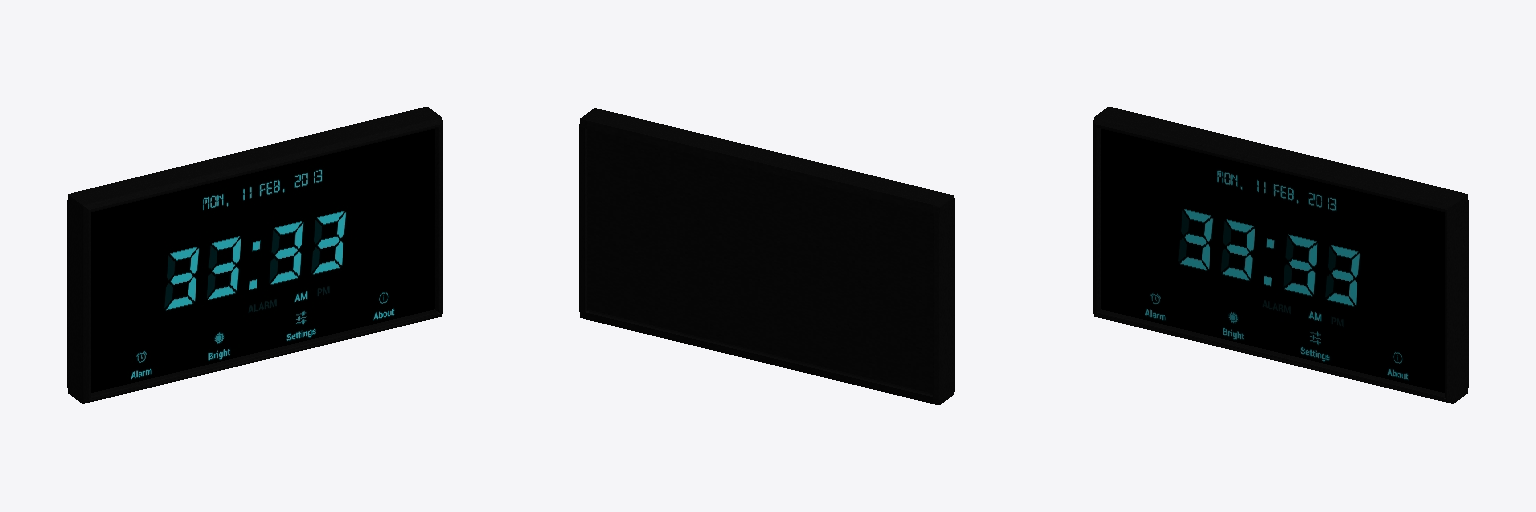
3 views of the same model, side by side, from view 1: azimuth 30°, elevation 25°; view 2: azimuth 150°, elevation 25°; view 3: azimuth 330°, elevation 25° (orthographic).
Visible parts, largest first — view 1: Digital_Clock; view 2: Digital_Clock; view 3: Digital_Clock.
Part boxes in pixels (left/top/right/bottom): Digital_Clock: left=67, top=107, right=442, bottom=403; Digital_Clock: left=579, top=108, right=954, bottom=404; Digital_Clock: left=1093, top=107, right=1468, bottom=403.
Size of the model in its own units: 20.45 by 10.81 by 1.8.
1 materials, 1 textured.